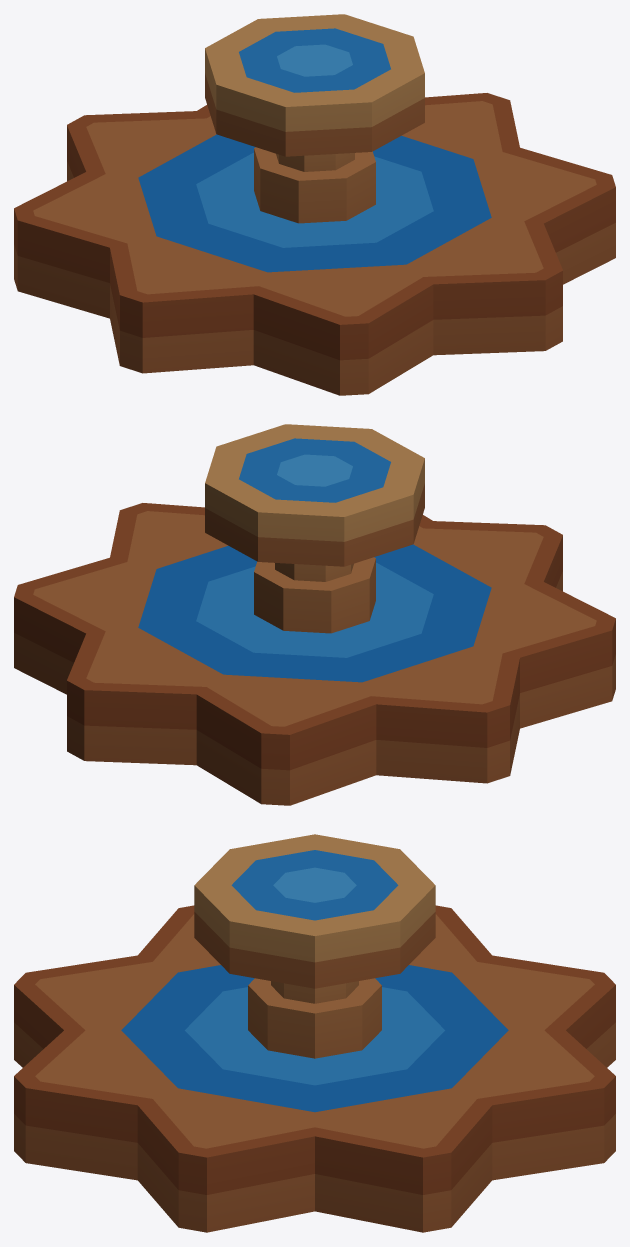
Rendered from fountain.fbx.
3 views of the same model, one above another, from view 1: azimuth 30°, elevation 25°; view 2: azimuth 150°, elevation 25°; view 3: azimuth 270°, elevation 25° (orthographic). The views are drawn at different scales.
Parts seen in each view (by area): view 1: fountain 1; view 2: fountain 1; view 3: fountain 1.
Part boxes in pixels (x1,y1,x2,y2): fountain 1: [14, 14, 615, 395]; fountain 1: [14, 424, 615, 805]; fountain 1: [14, 834, 615, 1232].
Bounding box in the file's own units: 11.21 × 4.53 × 11.21.
